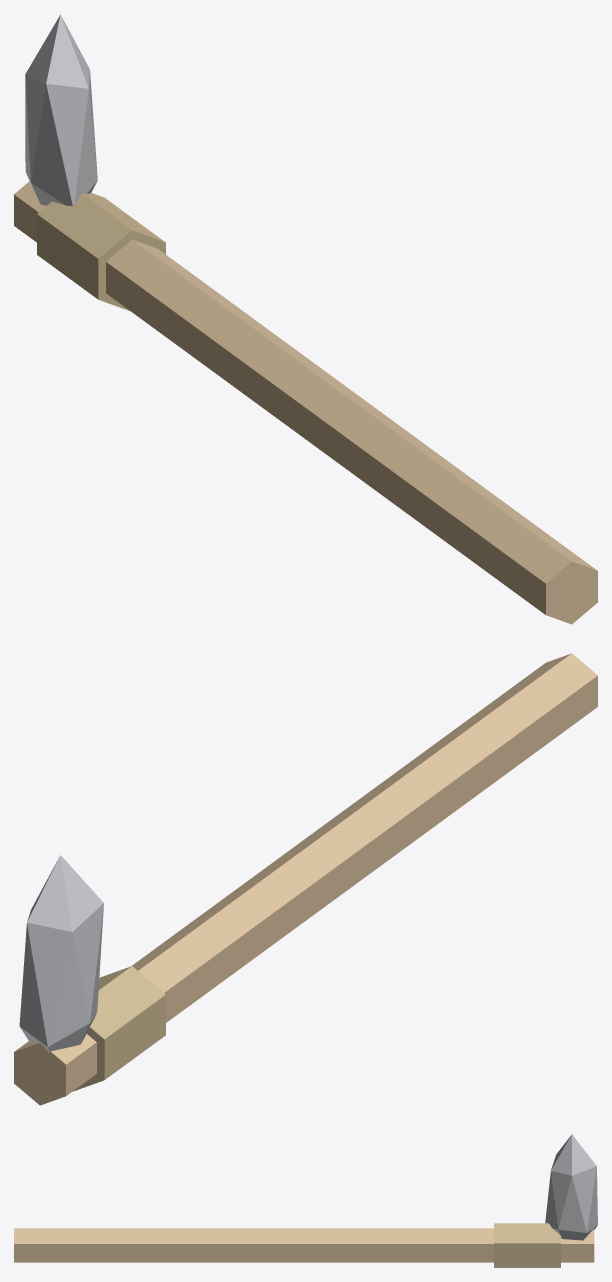
Rendered from stone_hoe_held.gltf.
The picture shows the model from 3 angles, top to bottom: view 1: azimuth 30°, elevation 25°; view 2: azimuth 150°, elevation 25°; view 3: azimuth 270°, elevation 25°; orthographic projection. The views are drawn at different scales.
Visible parts, largest first — view 1: tools_stone_hoe_held; view 2: tools_stone_hoe_held; view 3: tools_stone_hoe_held.
Boxes of the visible parts, left/top/right/bottom form: tools_stone_hoe_held: left=14, top=14, right=597, bottom=624; tools_stone_hoe_held: left=14, top=653, right=597, bottom=1105; tools_stone_hoe_held: left=14, top=1134, right=597, bottom=1267.
Size of the model in its own units: 0.0381 by 0.1322 by 0.5233.
